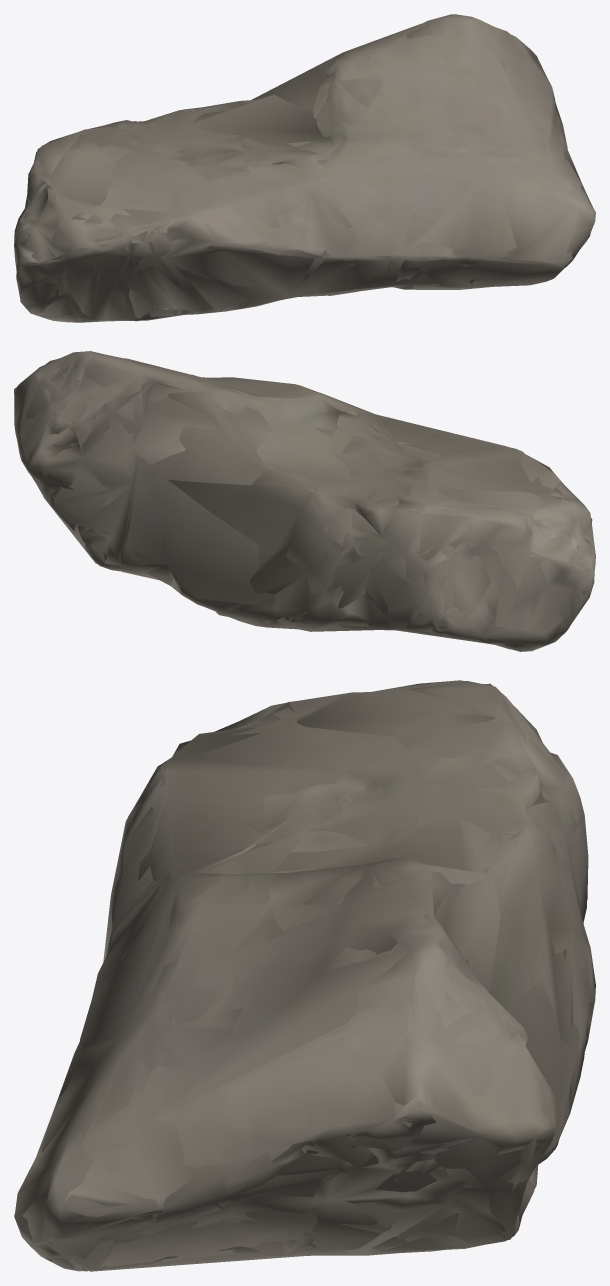
The model's file is rock_moon_1.glb.
The picture shows the model from 3 angles, top to bottom: view 1: azimuth 30°, elevation 25°; view 2: azimuth 150°, elevation 25°; view 3: azimuth 270°, elevation 25°; orthographic projection. The views are drawn at different scales.
Parts seen in each view (by area): view 1: moon_rock_01_LOD0; view 2: moon_rock_01_LOD0; view 3: moon_rock_01_LOD0.
Part boxes in pixels (x1,y1,x2,y2): moon_rock_01_LOD0: (14, 14, 595, 322); moon_rock_01_LOD0: (14, 351, 595, 651); moon_rock_01_LOD0: (14, 680, 595, 1271).
Size of the model in its own units: 0.2123 by 0.0751 by 0.1114.
Materials: 1 (1 with a texture image).
